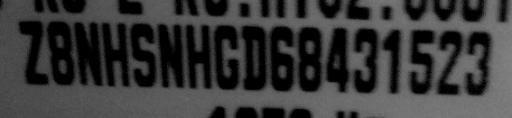letter: (461, 26, 495, 96), (433, 26, 467, 96), (181, 21, 215, 89), (350, 24, 384, 90), (100, 19, 132, 88), (16, 18, 48, 85), (73, 20, 105, 87), (127, 20, 159, 86), (238, 23, 270, 89), (322, 25, 354, 91), (268, 21, 298, 91), (408, 25, 438, 95), (296, 23, 326, 91), (210, 22, 240, 88), (379, 24, 407, 94), (157, 20, 185, 88), (48, 20, 76, 85)
